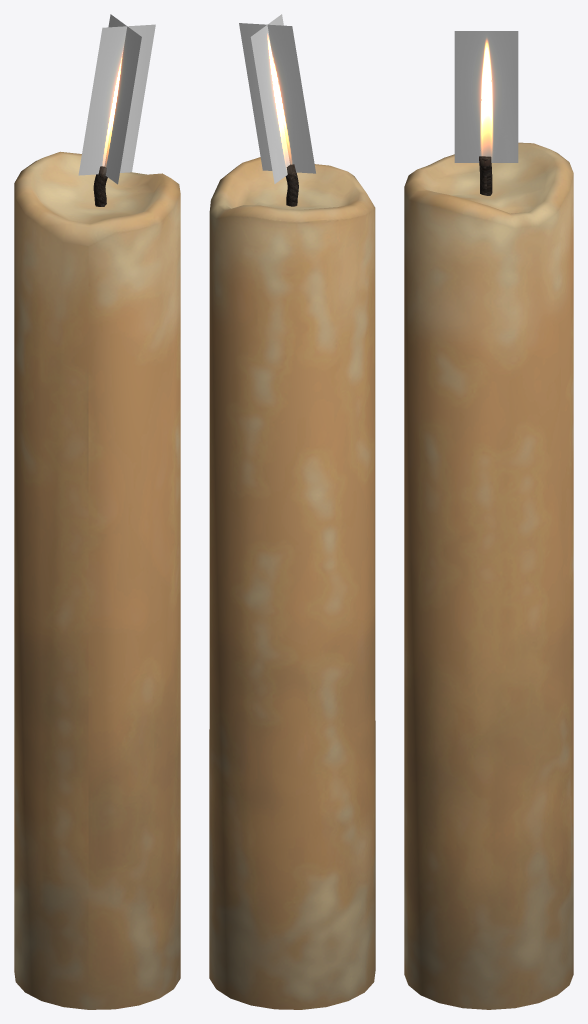
File: SM_candle_03.fbx
3 renders of one model, left to right at view 1: azimuth 30°, elevation 25°; view 2: azimuth 150°, elevation 25°; view 3: azimuth 270°, elevation 25°, orthographic.
Visible parts, largest first — view 1: SM_candle_03_LOD0; view 2: SM_candle_03_LOD0; view 3: SM_candle_03_LOD0.
Part boxes in pixels (x1,y1,x2,y2): SM_candle_03_LOD0: (14, 14, 180, 1009); SM_candle_03_LOD0: (209, 14, 375, 1009); SM_candle_03_LOD0: (404, 31, 573, 1009).
Bounding box in the file's own units: 5.65 × 5.65 × 35.32.
2 materials, 1 textured.
